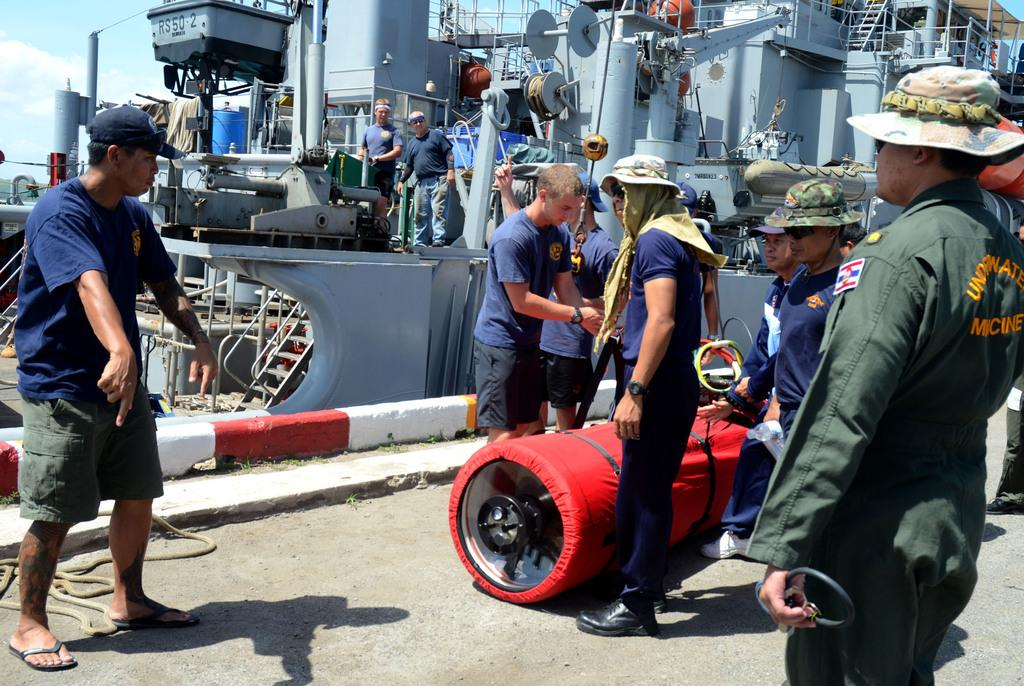Hat: (848, 68, 1022, 167), (762, 173, 862, 273), (90, 103, 190, 159), (598, 152, 682, 196), (750, 205, 786, 236)
